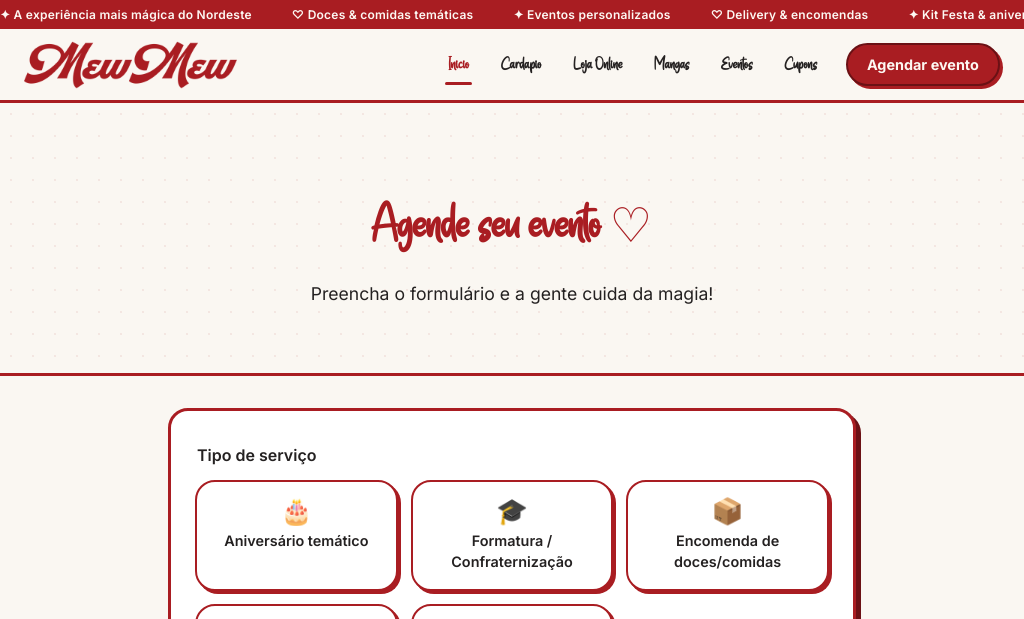
Test: Página de Agendamento › não deve enviar com telefone incompleto
Click the radio button labelled "🎂 Aniversário temático": {"x": 296, "y": 535} [195, 480, 398, 591]
(page scrolled)
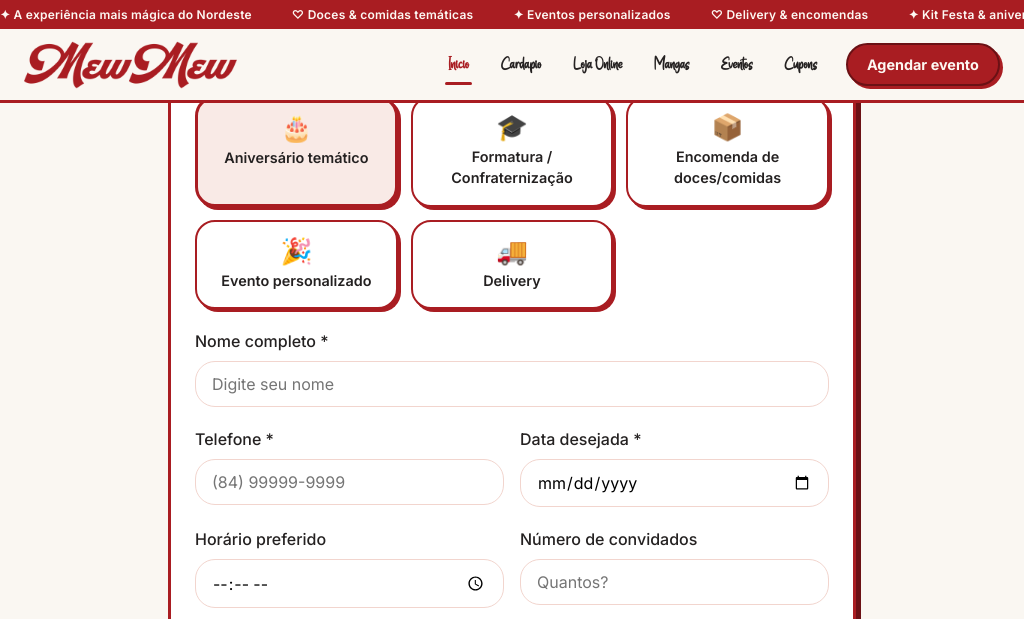
In the field labelled "Nome completo *": {"x": 512, "y": 384} [195, 361, 829, 407], type "João Silva"
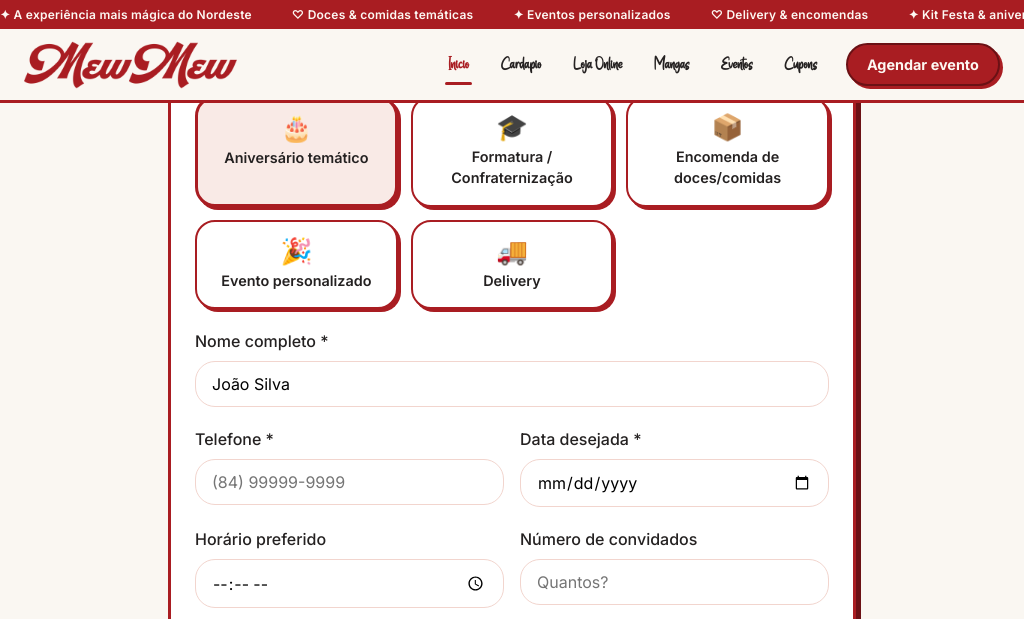
In the field labelled "Telefone *": {"x": 350, "y": 482} [195, 459, 504, 505], type "84999999999"
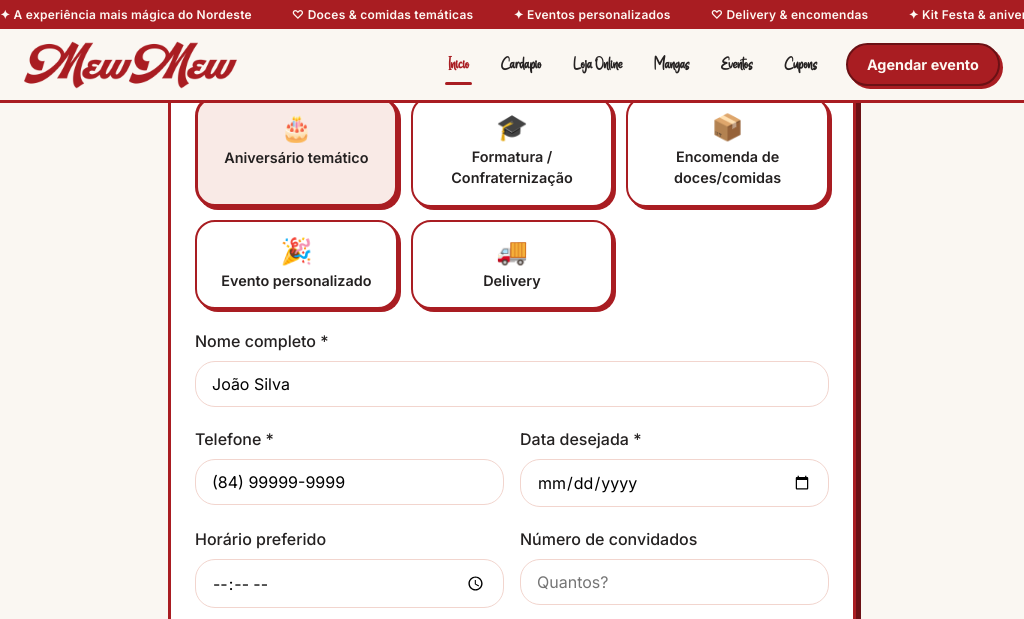
In the date field labelled "Data desejada *": {"x": 674, "y": 483} [520, 459, 829, 507], type "2026-07-15"
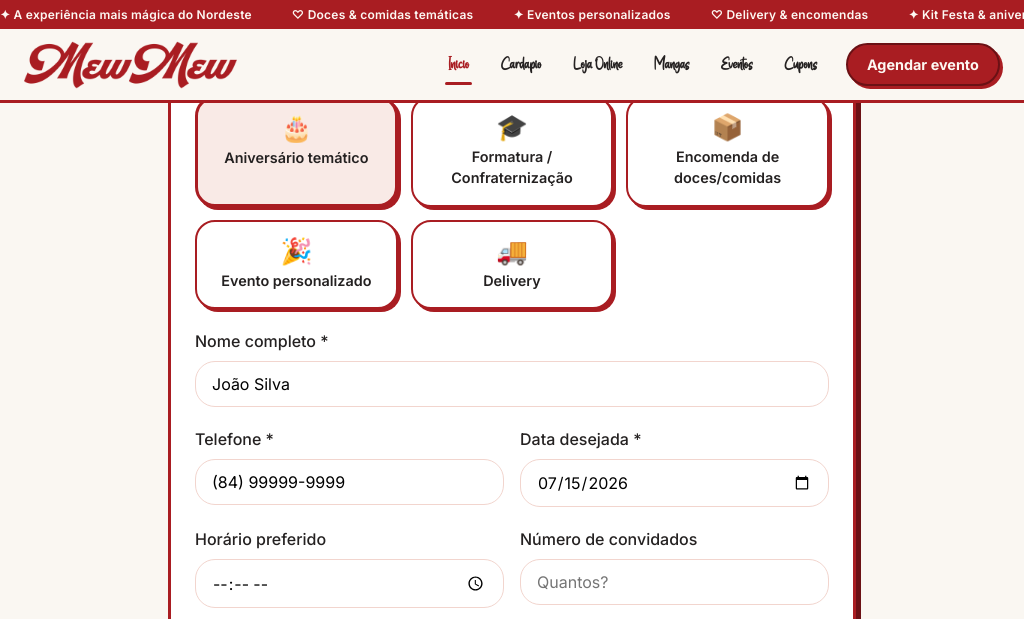
In the field labelled "Telefone *": {"x": 350, "y": 482} [195, 459, 504, 505], type "8499"
(page scrolled)
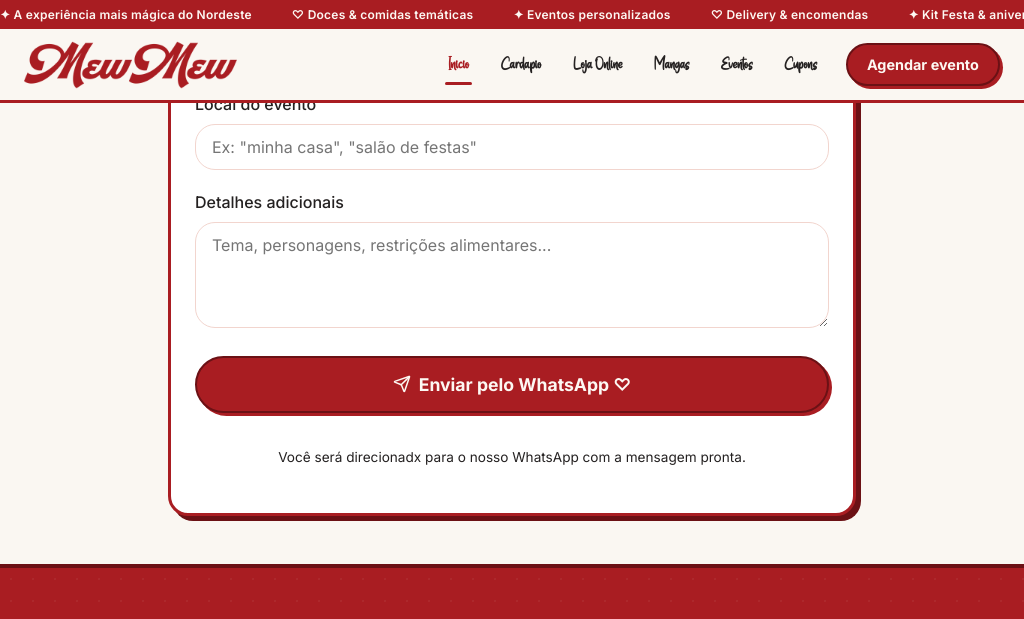
Click the button "Enviar pelo WhatsApp ♡": {"x": 512, "y": 384} [195, 356, 829, 413]
(page scrolled)
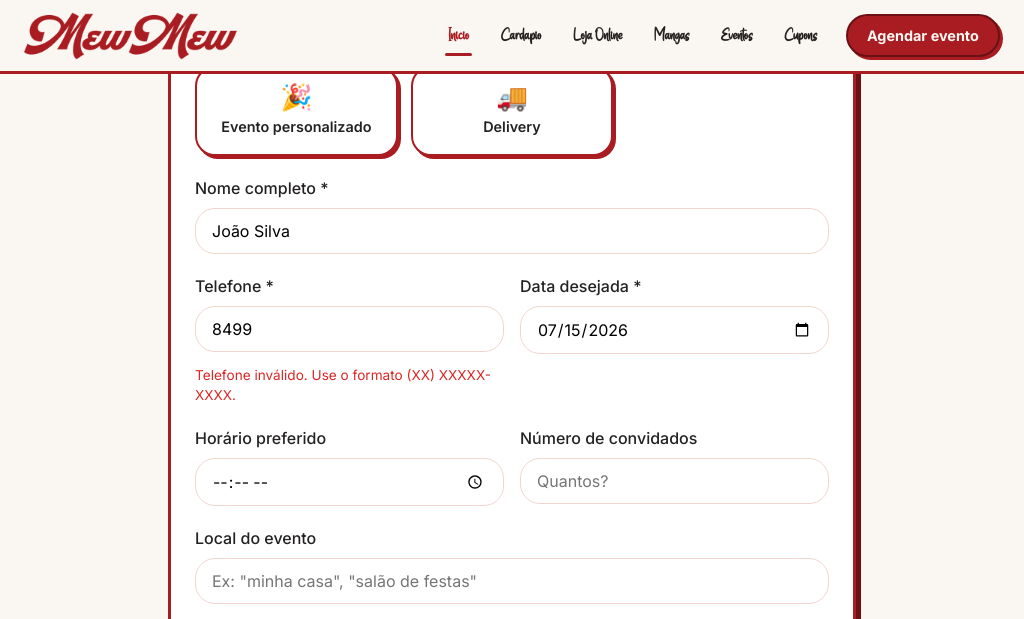
Expected: the text "Telefone inválido. Use o formato (XX) XXXXX-XXXX." is shown, [195, 365, 504, 406]
